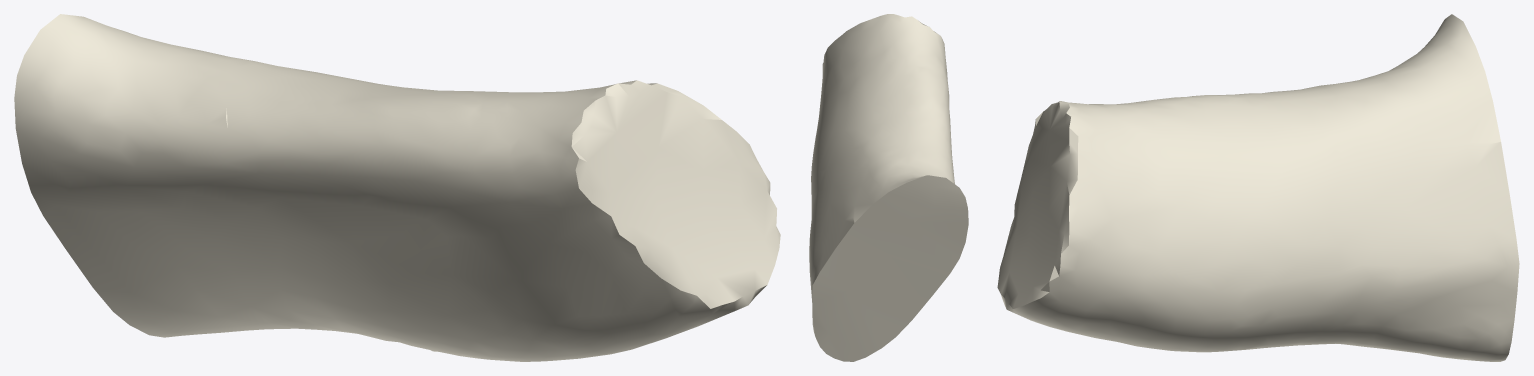
File: fma304328_mm1609m.glb
3 renders of one model, left to right at view 1: azimuth 30°, elevation 25°; view 2: azimuth 150°, elevation 25°; view 3: azimuth 270°, elevation 25°, orthographic. The views are drawn at different scales.
Visible parts, largest first — view 1: FMA304328_MM1609M; view 2: FMA304328_MM1609M; view 3: FMA304328_MM1609M.
Boxes of the visible parts, <box> form: FMA304328_MM1609M: <box>14,14,780,361</box>; FMA304328_MM1609M: <box>809,14,968,361</box>; FMA304328_MM1609M: <box>997,14,1519,361</box>.
Size of the model in its own units: 0.0335 by 0.0253 by 0.0377.
